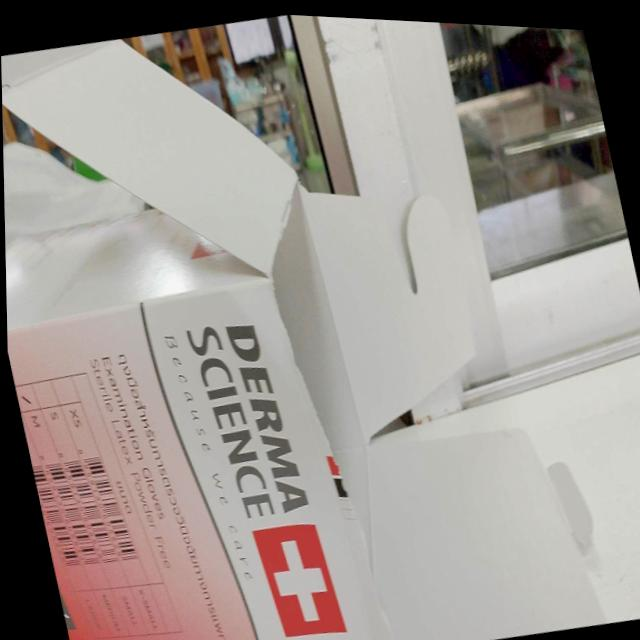General: (2, 18, 637, 638), (6, 277, 384, 638)
